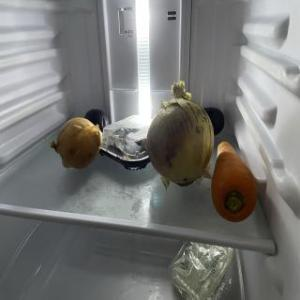carrot: (209, 140, 257, 222)
eggplant: (200, 105, 225, 137), (84, 108, 109, 132)
onion: (146, 82, 214, 184), (49, 118, 102, 172)
